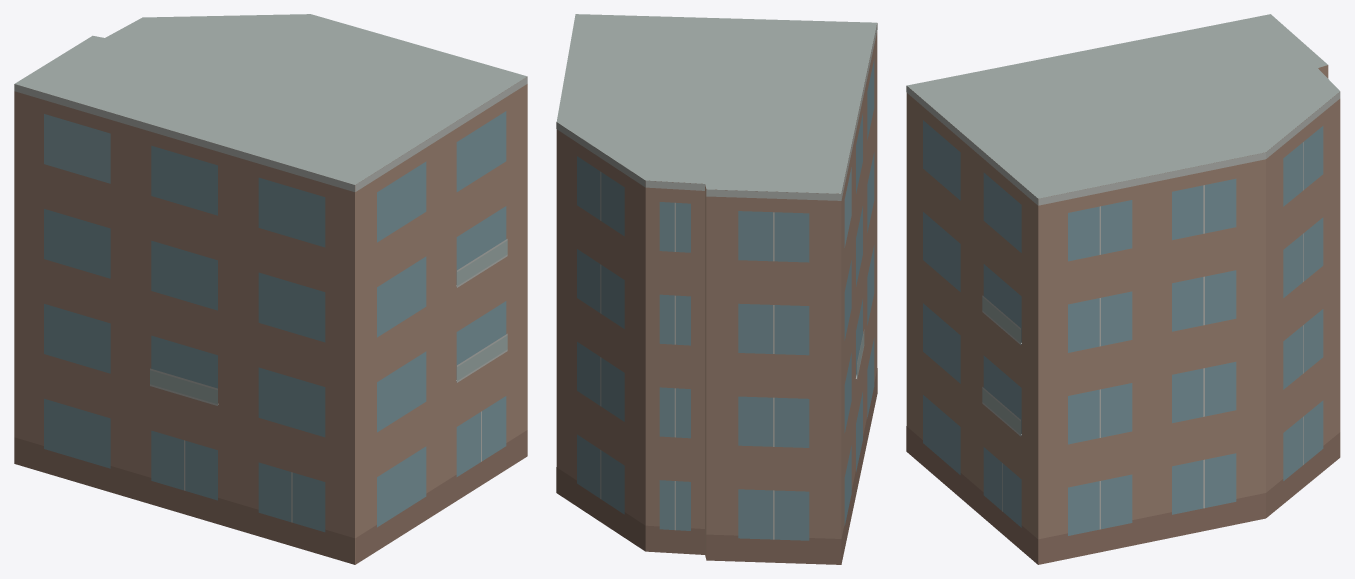
File: survey-upis-32627977.glb
3 views of the same model, side by side, from view 1: azimuth 30°, elevation 25°; view 2: azimuth 150°, elevation 25°; view 3: azimuth 270°, elevation 25° (orthographic). The views are drawn at different scales.
Parts seen in each view (by area): view 1: survey-upis-32627977.tmp; view 2: survey-upis-32627977.tmp; view 3: survey-upis-32627977.tmp.
Boxes of the visible parts, left/top/right/bottom form: survey-upis-32627977.tmp: left=14, top=14, right=527, bottom=564; survey-upis-32627977.tmp: left=556, top=14, right=877, bottom=564; survey-upis-32627977.tmp: left=906, top=14, right=1340, bottom=564.
Bounding box in the file's own units: 13.86 × 12.8 × 13.75.
